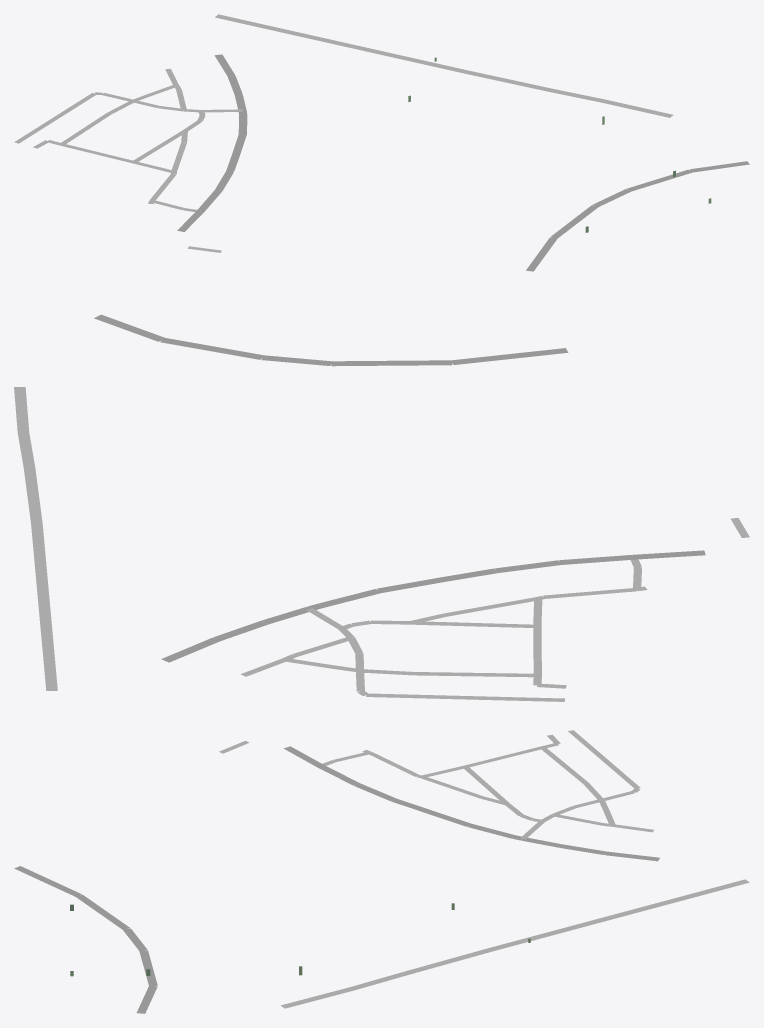
3 views of the same model, one above another, from view 1: azimuth 30°, elevation 25°; view 2: azimuth 150°, elevation 25°; view 3: azimuth 270°, elevation 25° (orthographic). The views are drawn at different scales.
Size of the model in its own units: 522 by 8.67 by 579.
